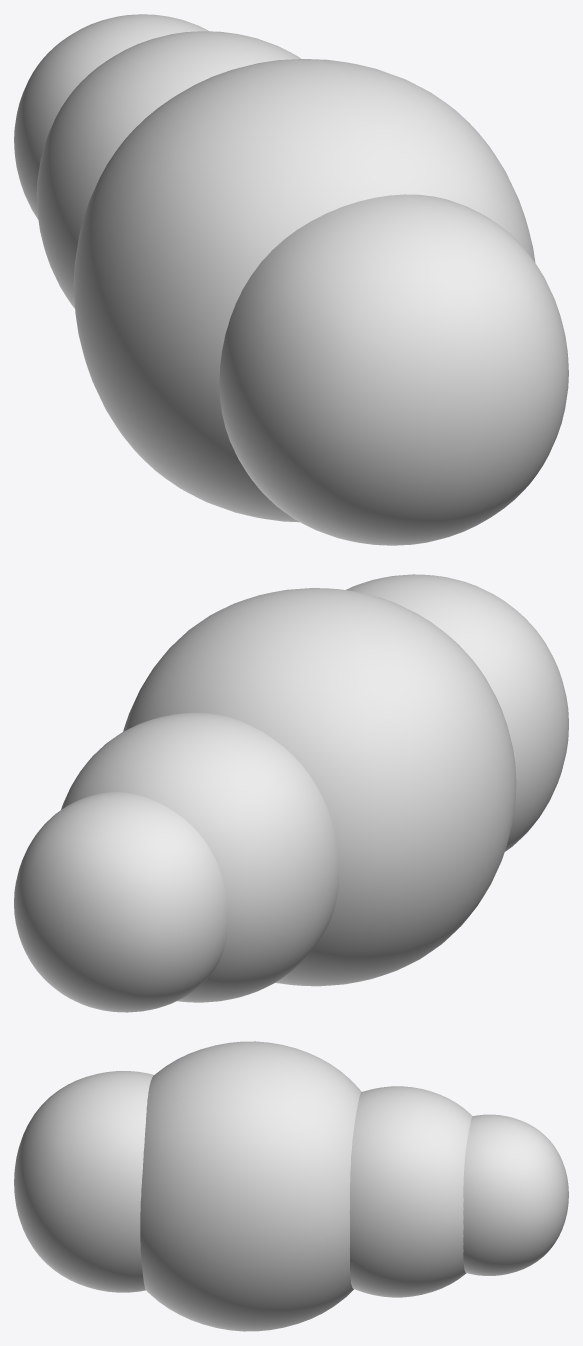
3 views of the same model, one above another, from view 1: azimuth 30°, elevation 25°; view 2: azimuth 150°, elevation 25°; view 3: azimuth 270°, elevation 25° (orthographic). The views are drawn at different scales.
Visible parts, largest first — view 1: Cube.1434; view 2: Cube.1434; view 3: Cube.1434.
Boxes of the visible parts, x1,y1,x2,y2 form: Cube.1434: (14,14,568,545); Cube.1434: (14,574,568,1012); Cube.1434: (14,1041,568,1331).
Size of the model in its own units: 4.24 by 4.24 by 8.22.
Materials: 1 (1 with a texture image).
